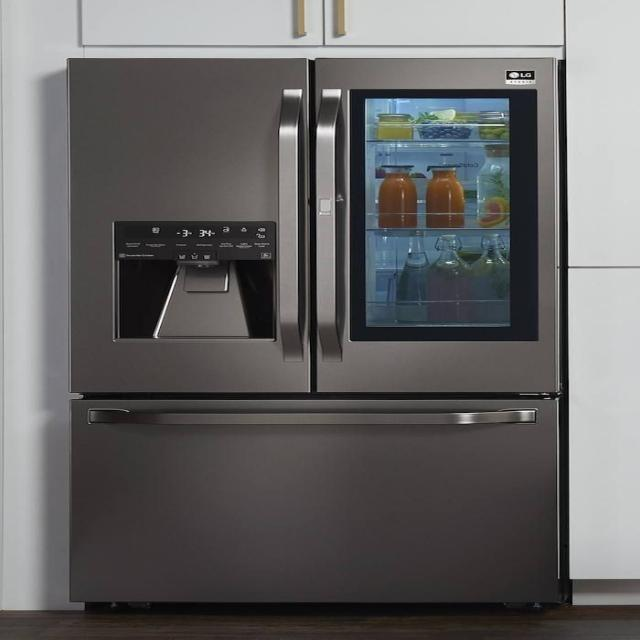obstacle: (64, 54, 572, 610)
